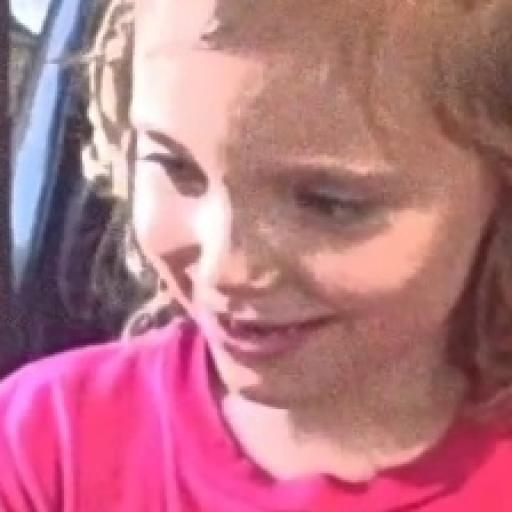Autism: (79, 2, 512, 486)
